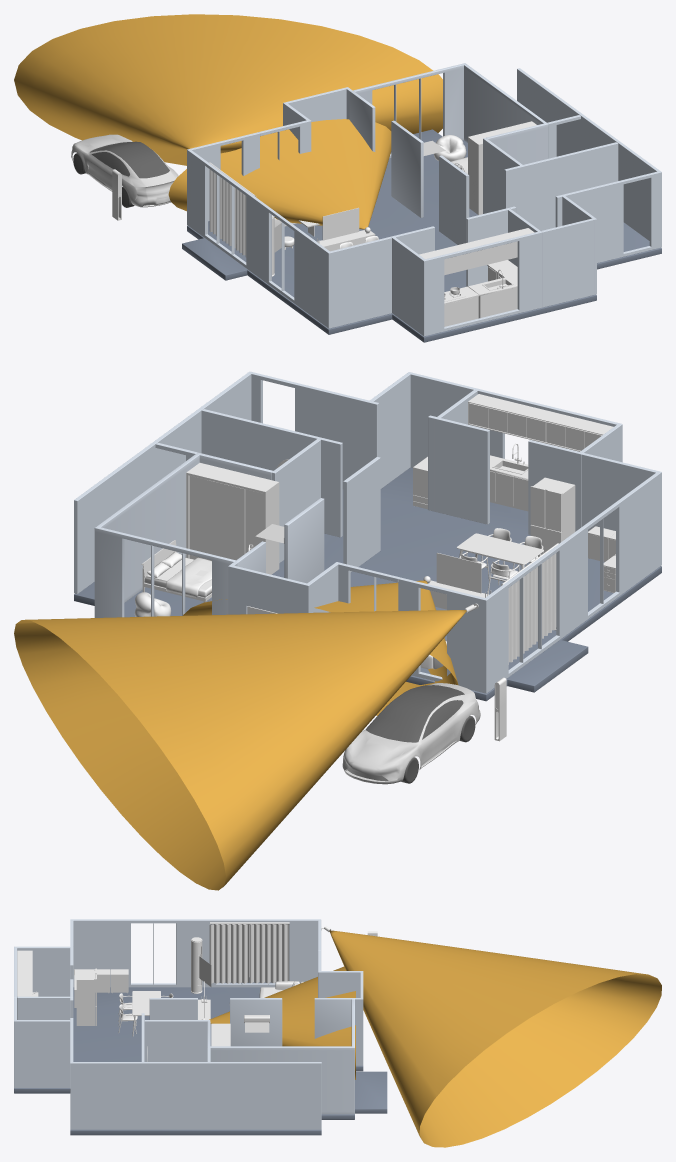
3 views of the same model, one above another, from view 1: azimuth 30°, elevation 25°; view 2: azimuth 150°, elevation 25°; view 3: azimuth 270°, elevation 25° (orthographic). The views are drawn at different scales.
Visible parts, largest first — view 1: wall, visualcone1, visualcone2, floor, others, car, others.002, curtain02, curtain01, charge; view 2: wall, visualcone1, others, floor, car, others.002, visualcone2, fridge, curtain01, others.001, curtain02, charge; view 3: wall, visualcone1, floor, visualcone2, others, curtain02, curtain01, fridge, others.002, ac2, others.001.
Part boxes in pixels (x1,y1,x2,y2): wall: (187, 63, 661, 336); visualcone1: (14, 14, 442, 165); visualcone2: (168, 119, 391, 229); floor: (182, 129, 661, 342); others: (274, 121, 536, 326); car: (71, 134, 178, 207); others.002: (419, 228, 534, 275); curtain02: (209, 169, 231, 245); curtain01: (234, 188, 256, 257); charge: (112, 169, 121, 220); wall: (74, 371, 661, 693); visualcone1: (14, 610, 466, 890); others: (134, 443, 615, 669); floor: (74, 467, 661, 701); car: (342, 683, 480, 784); others.002: (468, 394, 613, 451); visualcone2: (183, 580, 458, 715); fridge: (530, 477, 575, 554); curtain01: (530, 553, 556, 647); others.001: (456, 533, 543, 568); curtain02: (508, 572, 530, 664); charge: (494, 677, 506, 741); wall: (14, 919, 363, 1129); visualcone1: (329, 930, 661, 1147); floor: (14, 977, 387, 1135); visualcone2: (209, 966, 355, 1079); others: (32, 969, 303, 1061); curtain02: (249, 924, 288, 983); curtain01: (209, 924, 248, 983); fridge: (76, 968, 96, 1025); others.002: (17, 950, 32, 996); ac2: (191, 937, 202, 993); others.001: (132, 991, 160, 1036).
Size of the model in its own units: 12.07 by 4.47 by 20.38.
